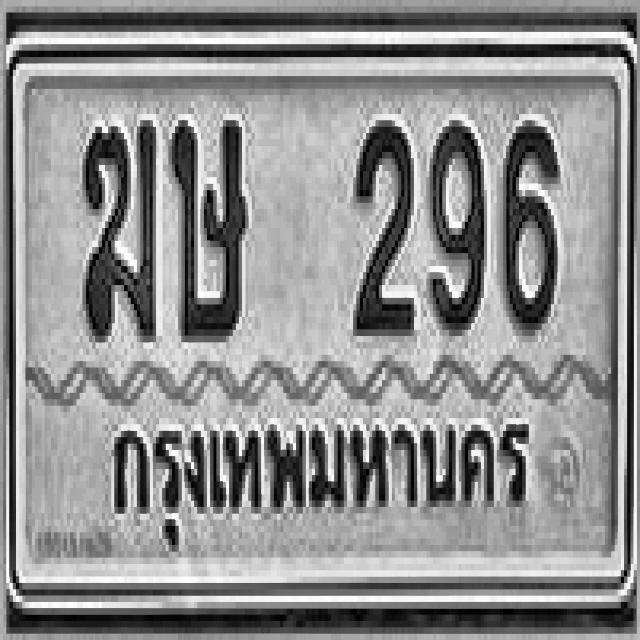license-plate: (12, 52, 628, 600)
